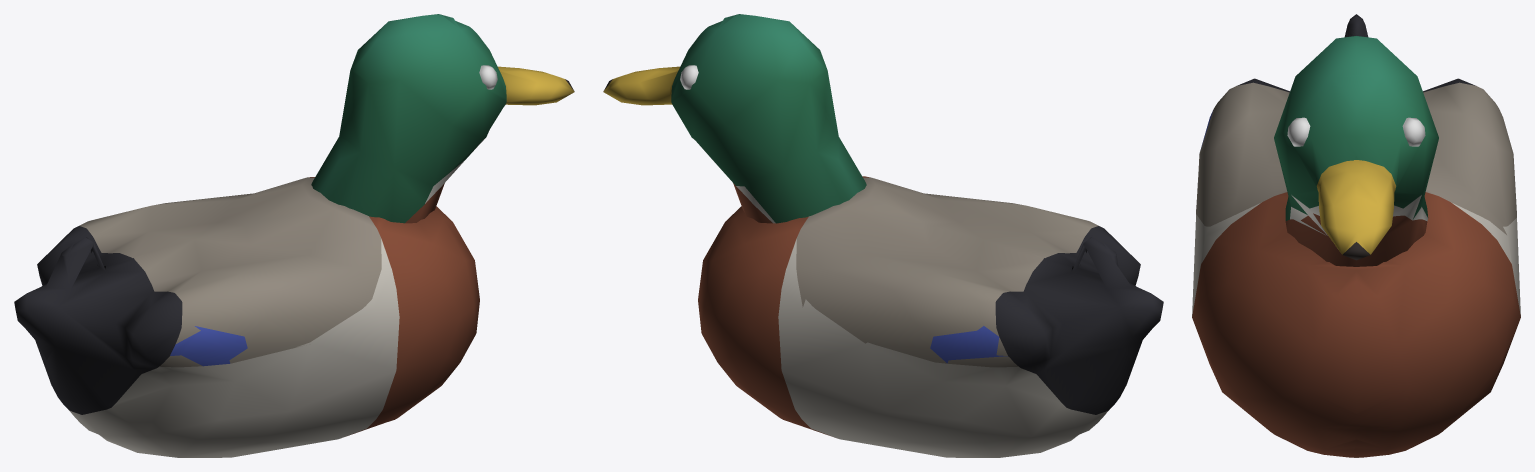
The model's file is Duck.fbx.
3 views of the same model, side by side, from view 1: azimuth 30°, elevation 25°; view 2: azimuth 150°, elevation 25°; view 3: azimuth 270°, elevation 25° (orthographic). The views are drawn at different scales.
Visible parts, largest first — view 1: Body, Head; view 2: Body, Head; view 3: Body, Head.
Part boxes in pixels (x1,y1,x2,y2): Body: (14, 177, 479, 457); Head: (311, 14, 574, 223); Body: (698, 176, 1163, 457); Head: (603, 14, 866, 223); Body: (1192, 14, 1520, 457); Head: (1274, 36, 1438, 266).
Size of the model in its own units: 0.4571 by 0.2982 by 0.2017.
